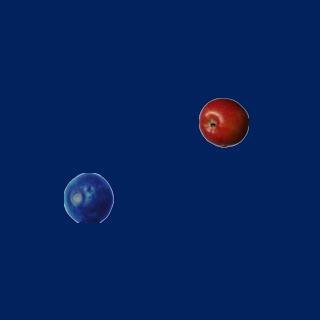Apple Braeburn: (198, 97, 248, 147)
Huckleberry: (63, 172, 113, 222)
